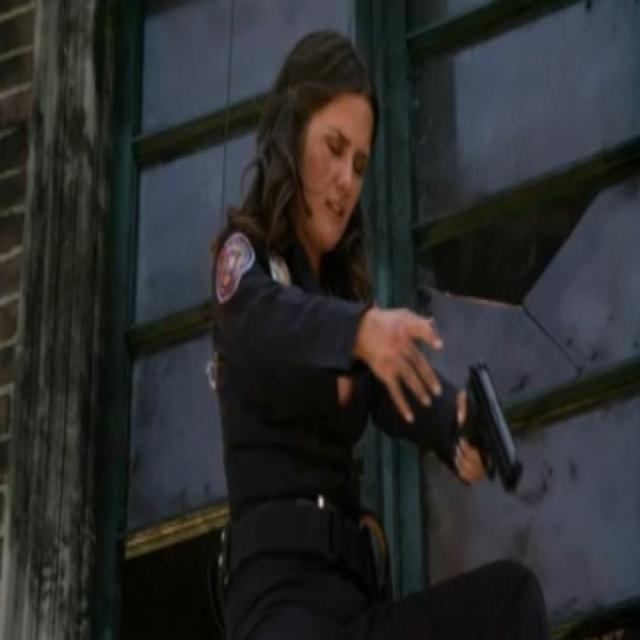weapons: (438, 349, 530, 502)
